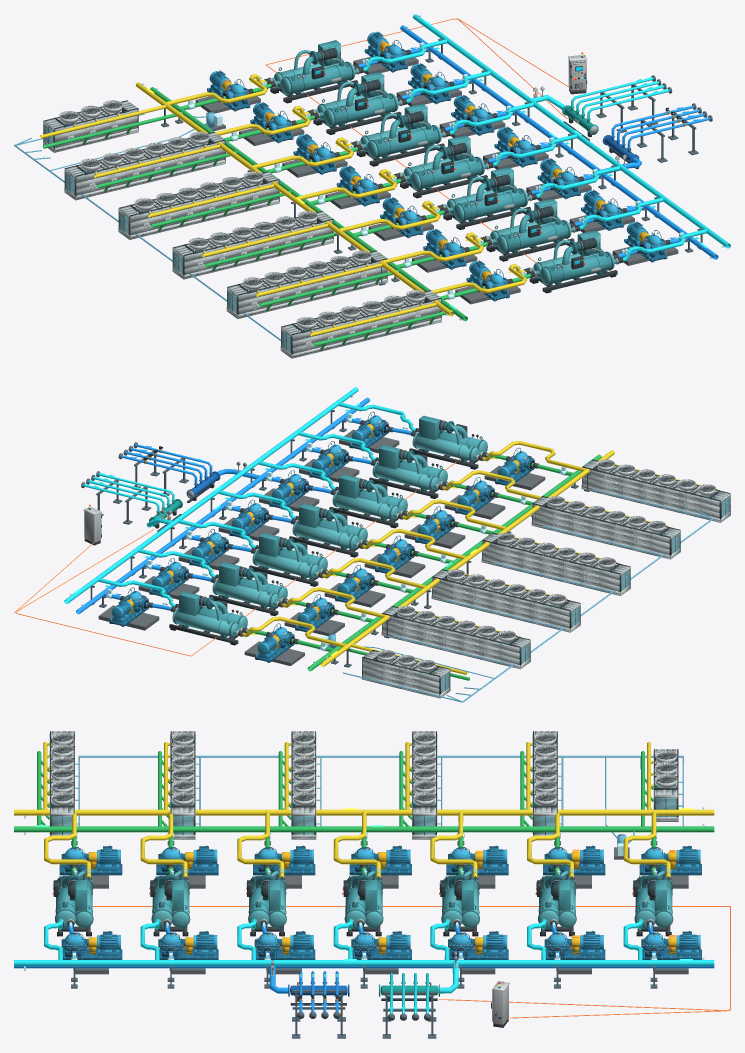
Rendered from chilled-water-plant-overview-latest-v2-lod1.glb.
The picture shows the model from 3 angles, top to bottom: view 1: azimuth 30°, elevation 25°; view 2: azimuth 150°, elevation 25°; view 3: azimuth 270°, elevation 25°; orthographic projection. The views are drawn at different scales.
Visible parts, largest first — view 1: CH7__LATEST_MODEL, CH3__LATEST_MODEL, CH6__LATEST_MODEL, CH2__LATEST_MODEL, CH5__LATEST_MODEL, CH4__LATEST_MODEL, CH1__LATEST_MODEL, PIPE_CHW_RETURN_HEADER, PIPE_CHW_SUPPLY_HEADER, PIPE_CW_RETURN_HEADER, CT19__LATEST_MODEL, CT13__LATEST_MODEL (+60 smaller); view 2: CH1__LATEST_MODEL, CH4__LATEST_MODEL, CH6__LATEST_MODEL, CH7__LATEST_MODEL, CH5__LATEST_MODEL, CH2__LATEST_MODEL, CH3__LATEST_MODEL, PIPE_CHW_RETURN_HEADER, PIPE_CHW_SUPPLY_HEADER, PIPE_CW_RETURN_HEADER, CT19__LATEST_MODEL, CT31__LATEST_MODEL (+55 smaller); view 3: PIPE_CW_SUPPLY_HEADER, PIPE_CHW_RETURN_HEADER, PIPE_CW_RETURN_HEADER, CH4__LATEST_MODEL, CH6__LATEST_MODEL, CH1__LATEST_MODEL, CH7__LATEST_MODEL, CH2__LATEST_MODEL, CH3__LATEST_MODEL, CH5__LATEST_MODEL, PIPE_CHW_SUPPLY_HEADER, CHWP6__LATEST_MODEL (+30 smaller).
Part boxes in pixels (x1,y1,x2,y2): CH7__LATEST_MODEL: (529, 230, 618, 293); CH3__LATEST_MODEL: (355, 103, 445, 166); CH6__LATEST_MODEL: (485, 198, 575, 261); CH2__LATEST_MODEL: (312, 72, 402, 134); CH5__LATEST_MODEL: (442, 167, 532, 229); CH4__LATEST_MODEL: (399, 135, 488, 198); CH1__LATEST_MODEL: (269, 40, 359, 103); PIPE_CHW_RETURN_HEADER: (412, 14, 730, 248); PIPE_CHW_SUPPLY_HEADER: (400, 25, 718, 259); PIPE_CW_RETURN_HEADER: (135, 82, 453, 316); CT19__LATEST_MODEL: (118, 198, 170, 239); CT13__LATEST_MODEL: (172, 237, 224, 279); CH1__LATEST_MODEL: (169, 591, 247, 645); CH4__LATEST_MODEL: (289, 503, 367, 557); CH6__LATEST_MODEL: (369, 445, 447, 498); CH7__LATEST_MODEL: (409, 415, 487, 469); CH5__LATEST_MODEL: (329, 474, 407, 528); CH2__LATEST_MODEL: (209, 562, 287, 615); CH3__LATEST_MODEL: (249, 533, 327, 586); PIPE_CHW_RETURN_HEADER: (64, 387, 358, 603); PIPE_CHW_SUPPLY_HEADER: (76, 397, 369, 614); PIPE_CW_RETURN_HEADER: (320, 450, 614, 666); CT19__LATEST_MODEL: (532, 594, 580, 632); CT31__LATEST_MODEL: (402, 660, 450, 698); PIPE_CW_SUPPLY_HEADER: (14, 826, 714, 832); PIPE_CHW_RETURN_HEADER: (14, 960, 714, 965); PIPE_CW_RETURN_HEADER: (14, 809, 714, 815); CH4__LATEST_MODEL: (342, 871, 383, 936); CH6__LATEST_MODEL: (149, 871, 190, 936); CH1__LATEST_MODEL: (632, 871, 673, 936); CH7__LATEST_MODEL: (52, 871, 93, 936); CH2__LATEST_MODEL: (535, 871, 576, 936); CH3__LATEST_MODEL: (439, 871, 479, 936); CH5__LATEST_MODEL: (246, 871, 286, 936); PIPE_CHW_SUPPLY_HEADER: (14, 966, 714, 968); CHWP6__LATEST_MODEL: (158, 931, 218, 959).
Bounding box in the file's own units: 34.08 × 2.36 × 35.62.
